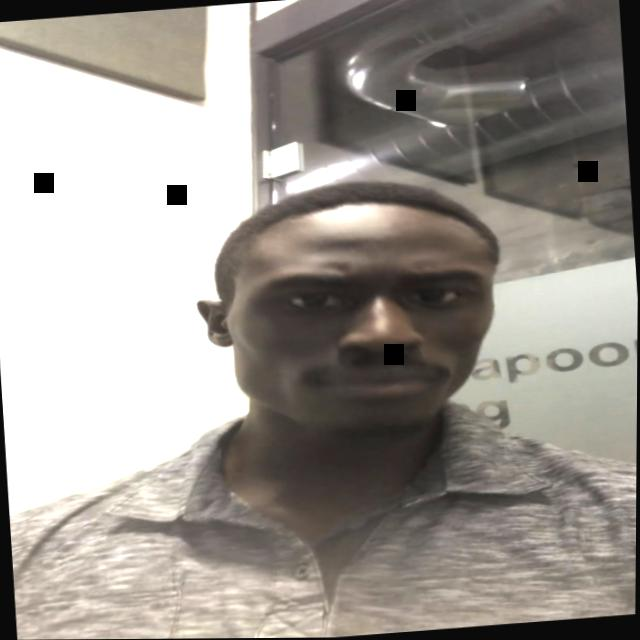NO-Mask: (219, 224, 505, 446)
